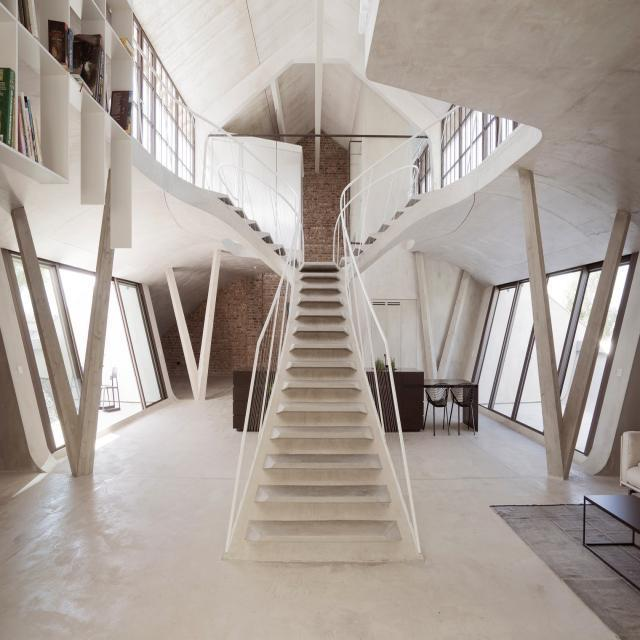stairs: (222, 256, 424, 565)
